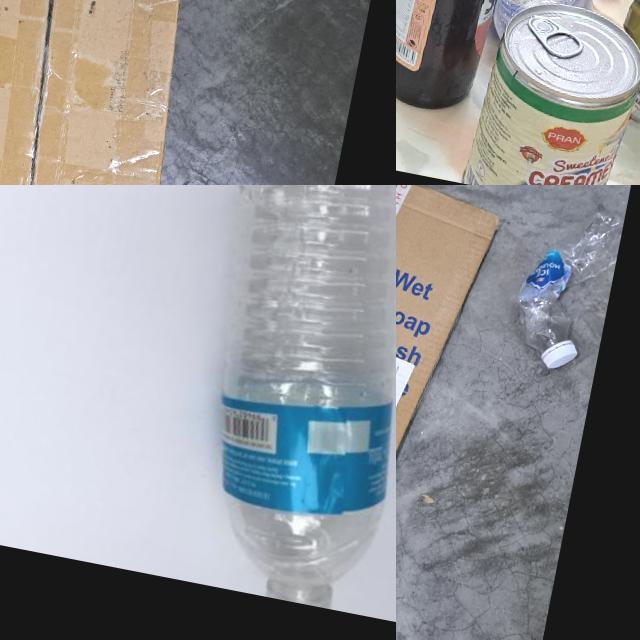aba de lata: (522, 9, 592, 61)
garrafa de vidro: (396, 0, 549, 115)
garrafa plástica: (165, 185, 396, 599), (508, 198, 626, 360), (396, 0, 457, 163), (478, 0, 619, 57)
lata: (460, 0, 640, 185), (606, 0, 640, 137)
papelão: (396, 185, 515, 640), (0, 0, 227, 185)
tampa plástica: (264, 571, 336, 610), (540, 339, 580, 374)
